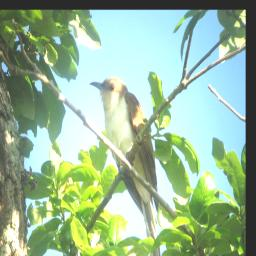Cuckoo: (87, 75, 164, 256)
